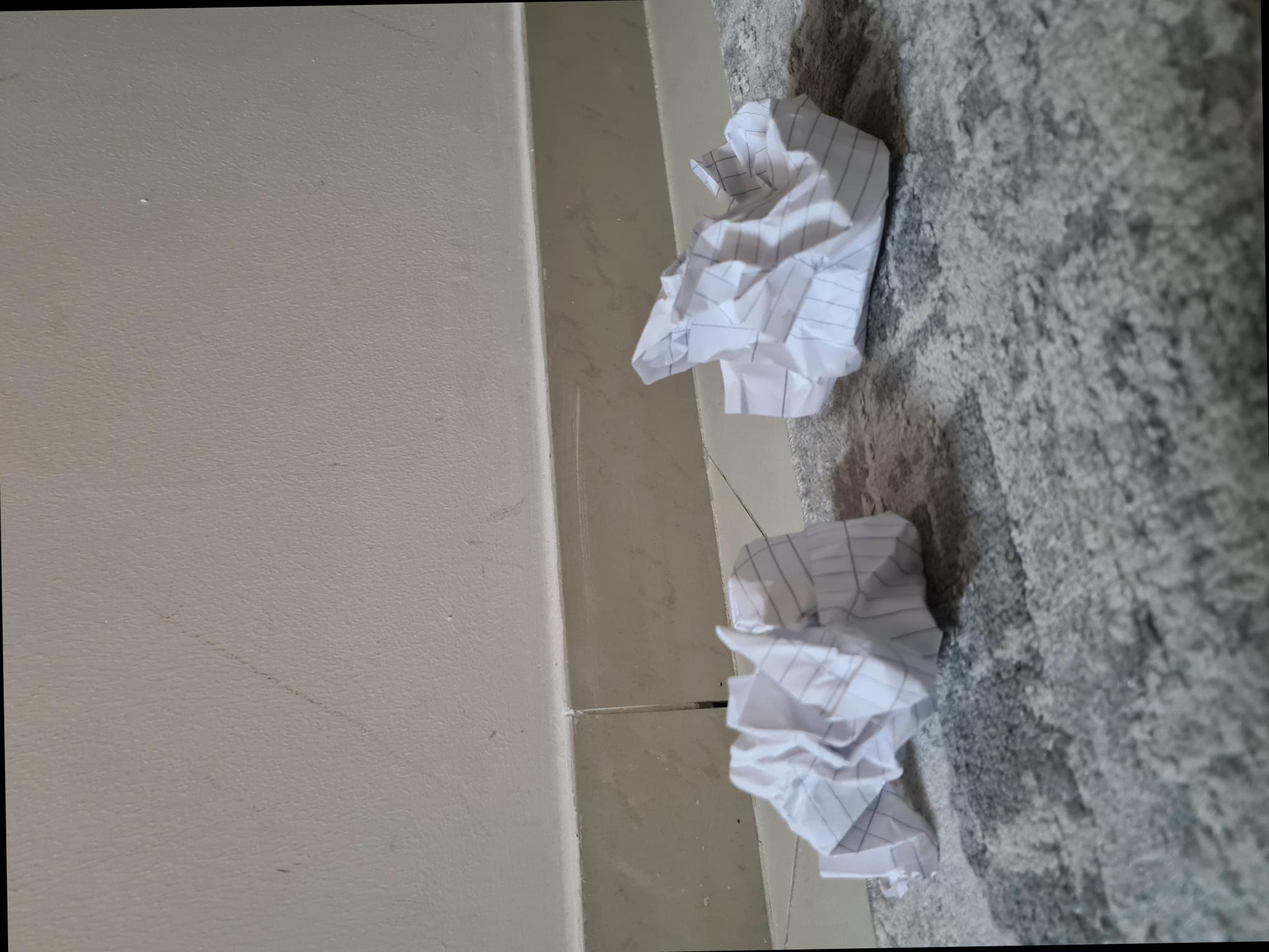Kertas: (502, 641, 874, 914), (66, 702, 465, 948)
